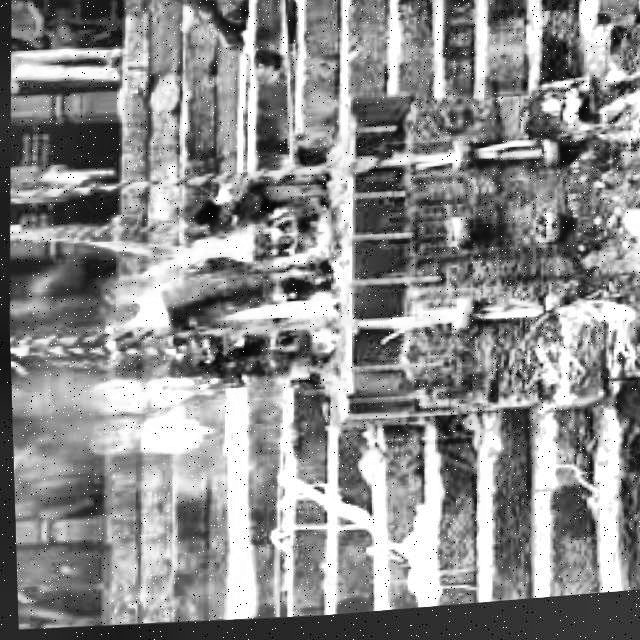Fire: (99, 226, 342, 347)
